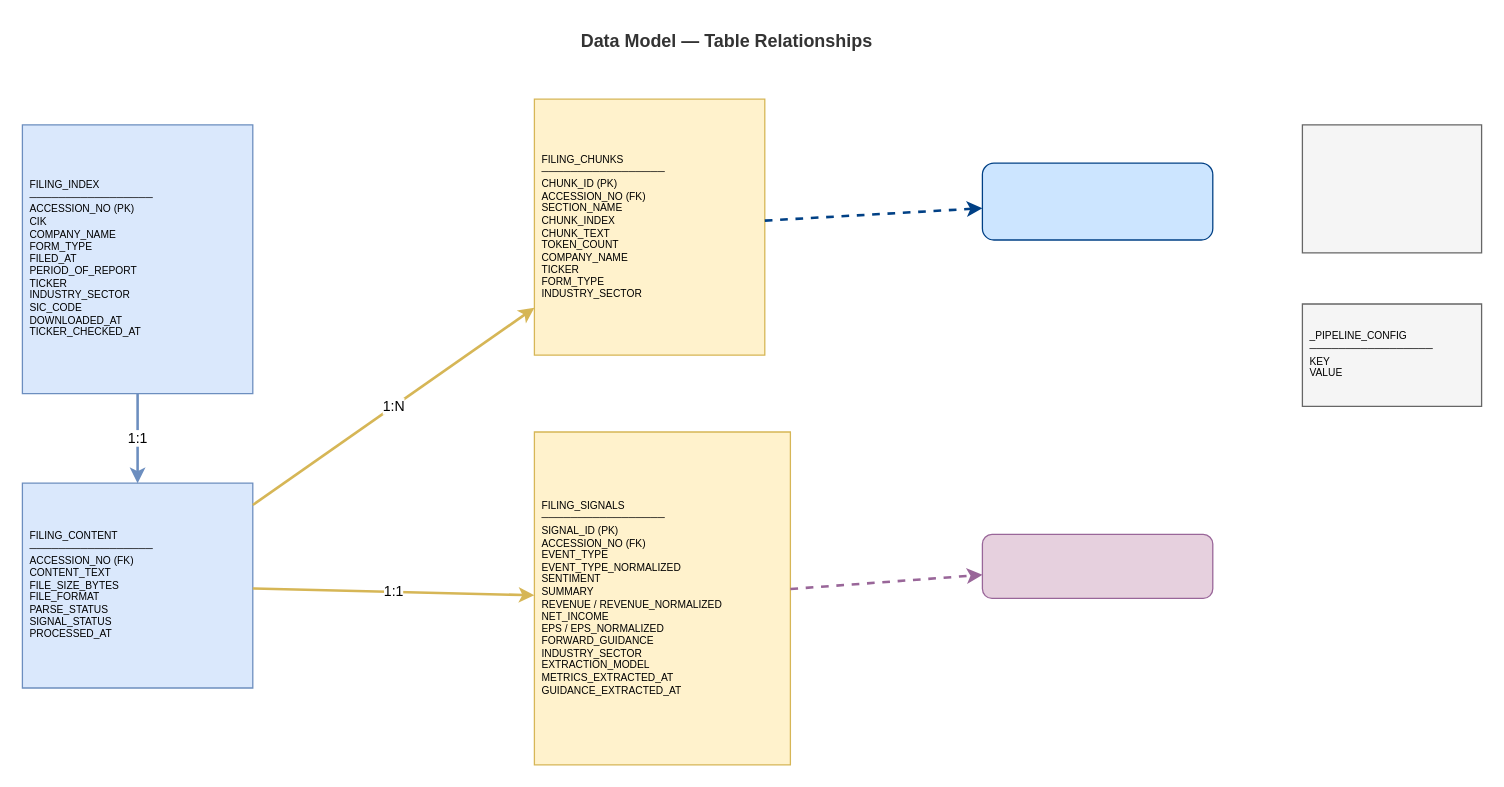
Some shapes in this 1504 by 787 pixel diagram are drawn without their labels. The centre of each missing label's shape, as x and y in pixels:
"_FEED_INGEST_LOG ───────────────── FEED_DATE STATUS LOADED" belongs at pixel 1391 188.
"CORTEX SEARCH SERVICE (indexes FILING_CHUNKS)" belongs at pixel 1097 201.
"SEMANTIC VIEW (queries FILING_SIGNALS live)" belongs at pixel 1097 565.
